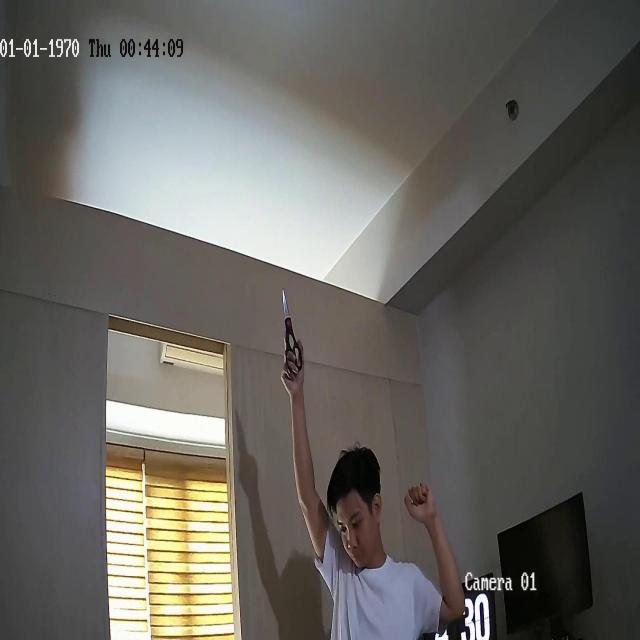scissor: (282, 290, 302, 375)
